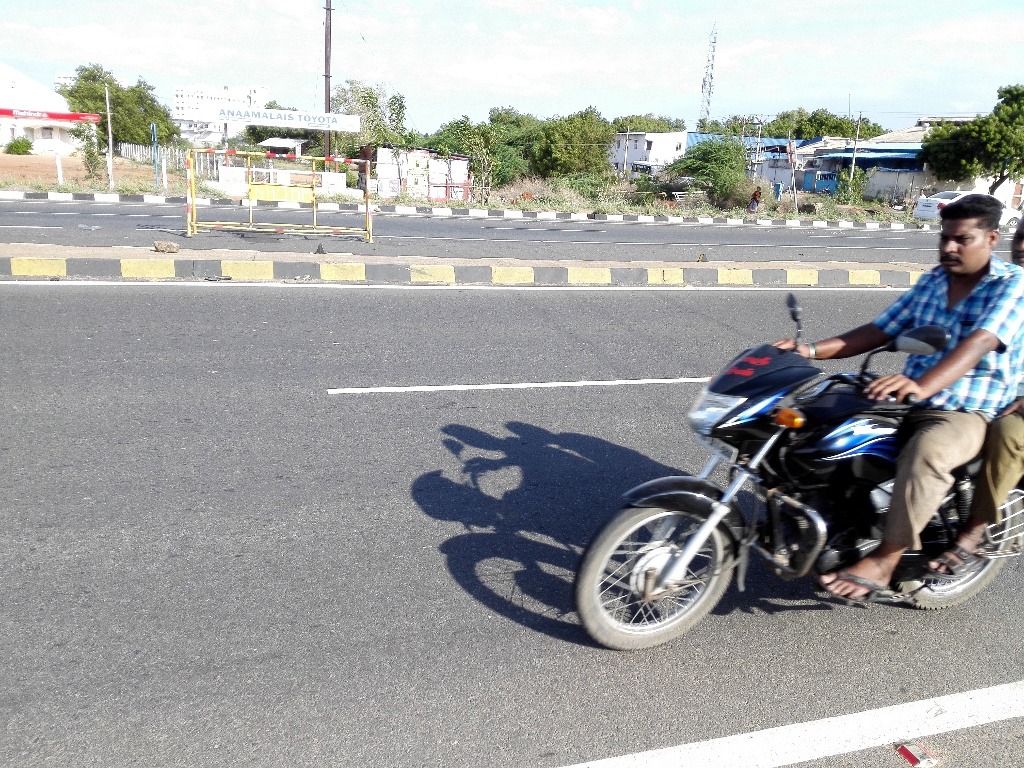biker: (552, 139, 1024, 666)
nohelmet: (922, 177, 1010, 287)
